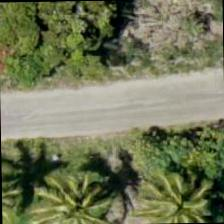Kelapa_Sawit: (141, 160, 223, 223), (38, 173, 131, 223)
